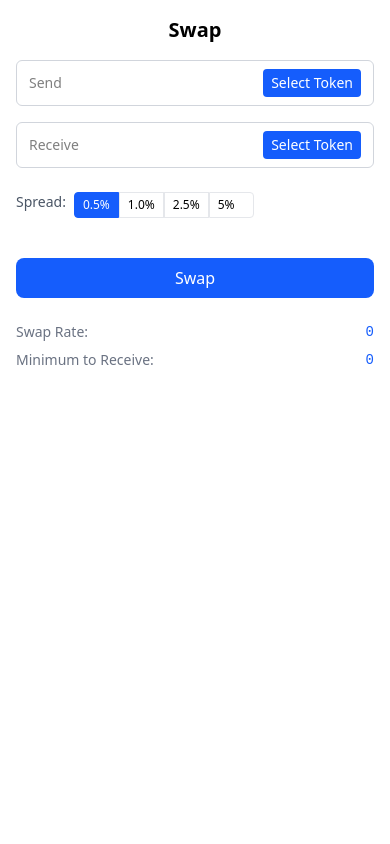
Test: Swap Page › 2. selecting the 'Send' token input updates sendToken
The image size is (390, 844).
Note: Open the modal
Click the 1st button "Select Token": (312, 83) [263,69,361,97]
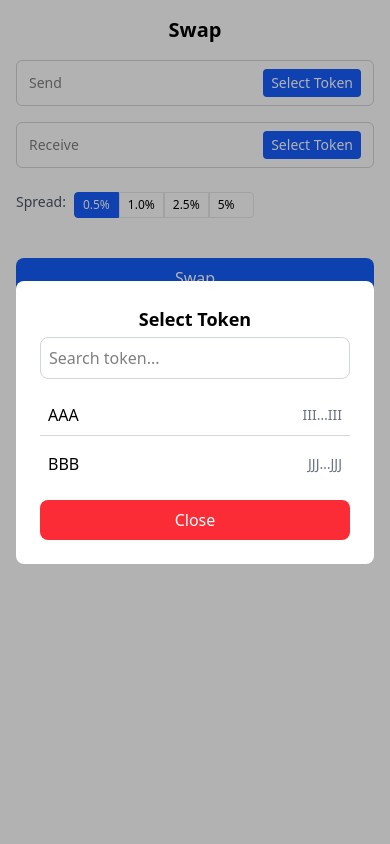
Expected: the heading "Select Token" is shown, [139,306,251,330]
Click the text "AAA": (63, 414) [48,402,79,426]
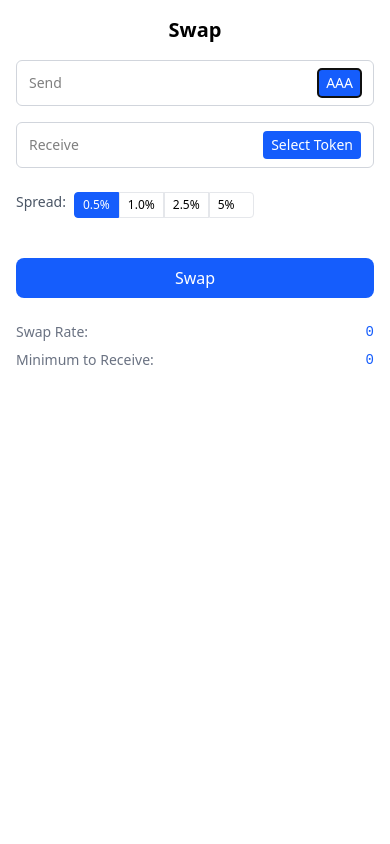
Expected: the button named "Select Token" reads "AAA", [318,69,361,97]
